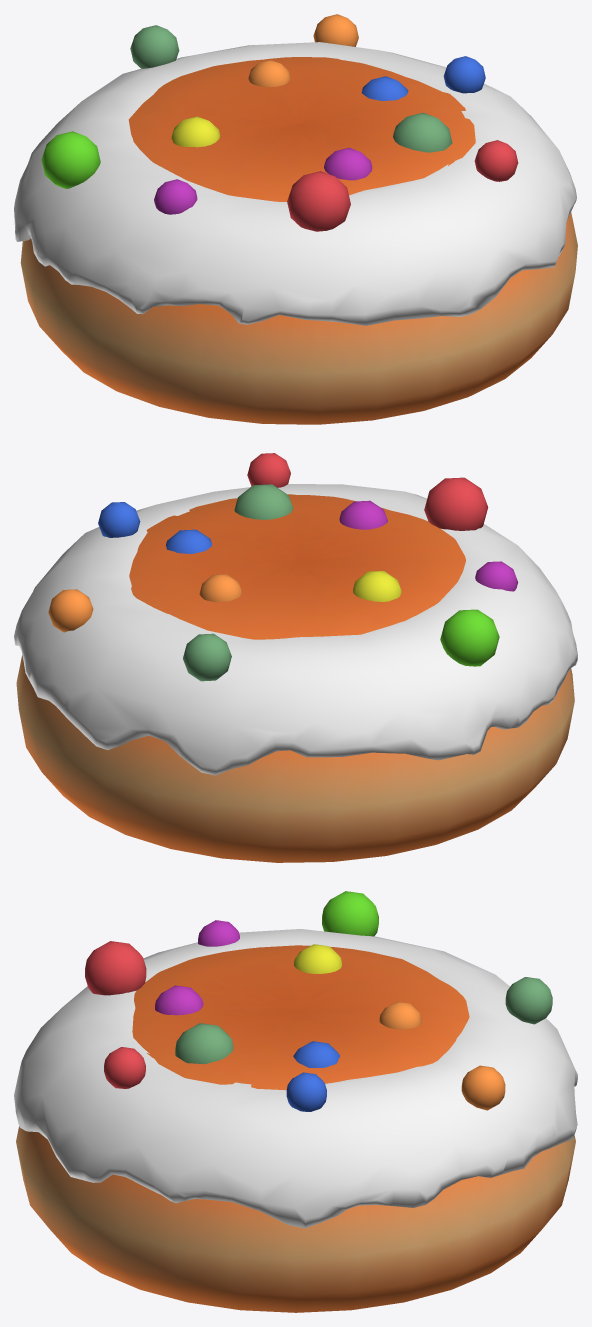
Rendered from Donut_Hole_Candy_Cooked.fbx.
The picture shows the model from 3 angles, top to bottom: view 1: azimuth 30°, elevation 25°; view 2: azimuth 150°, elevation 25°; view 3: azimuth 270°, elevation 25°; orthographic projection.
Parts seen in each view (by area): view 1: polySurface13; view 2: polySurface13; view 3: polySurface13.
Boxes of the visible parts, x1,y1,x2,y2 form: polySurface13: [14, 14, 577, 424]; polySurface13: [14, 453, 577, 862]; polySurface13: [14, 891, 577, 1312].
Size of the model in its own units: 107 by 52.48 by 107.
